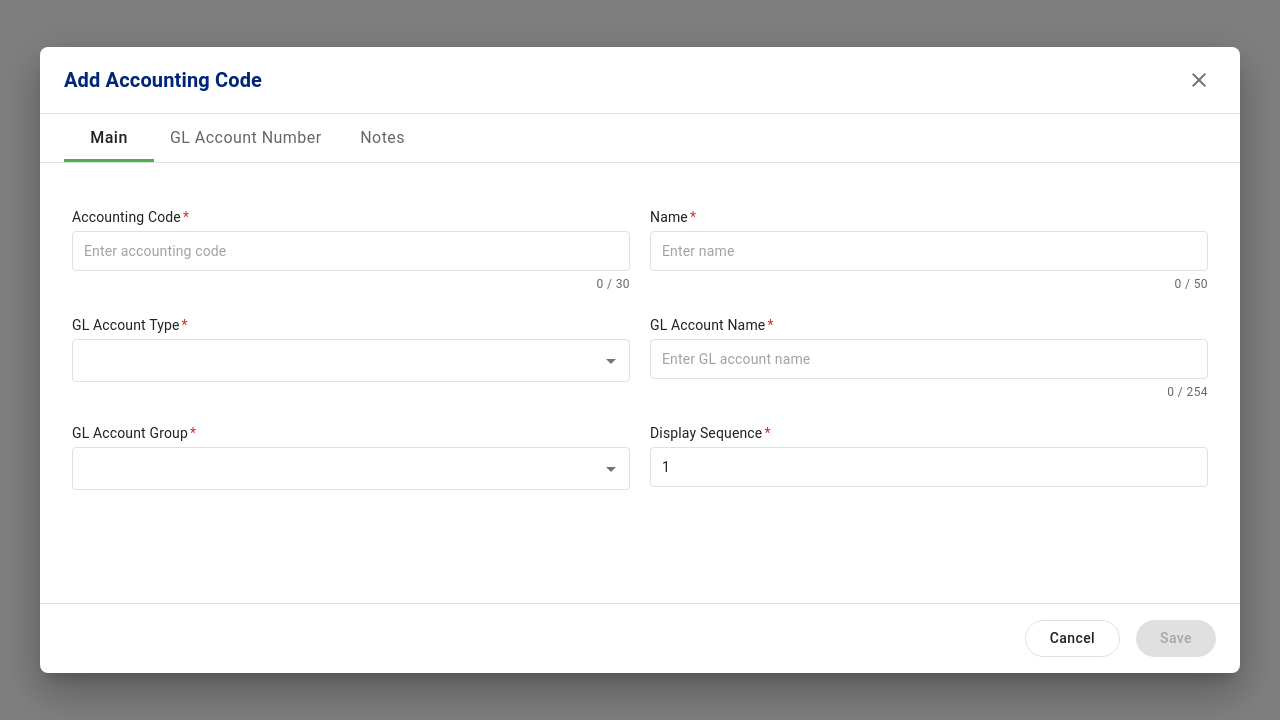
Test: AddAccountingCodeDialog › updates character count as user types in Notes tab
# Switch to Notes tab
Click the tab "Notes" at (383, 138), box x1=338 y1=114 x2=428 y2=162
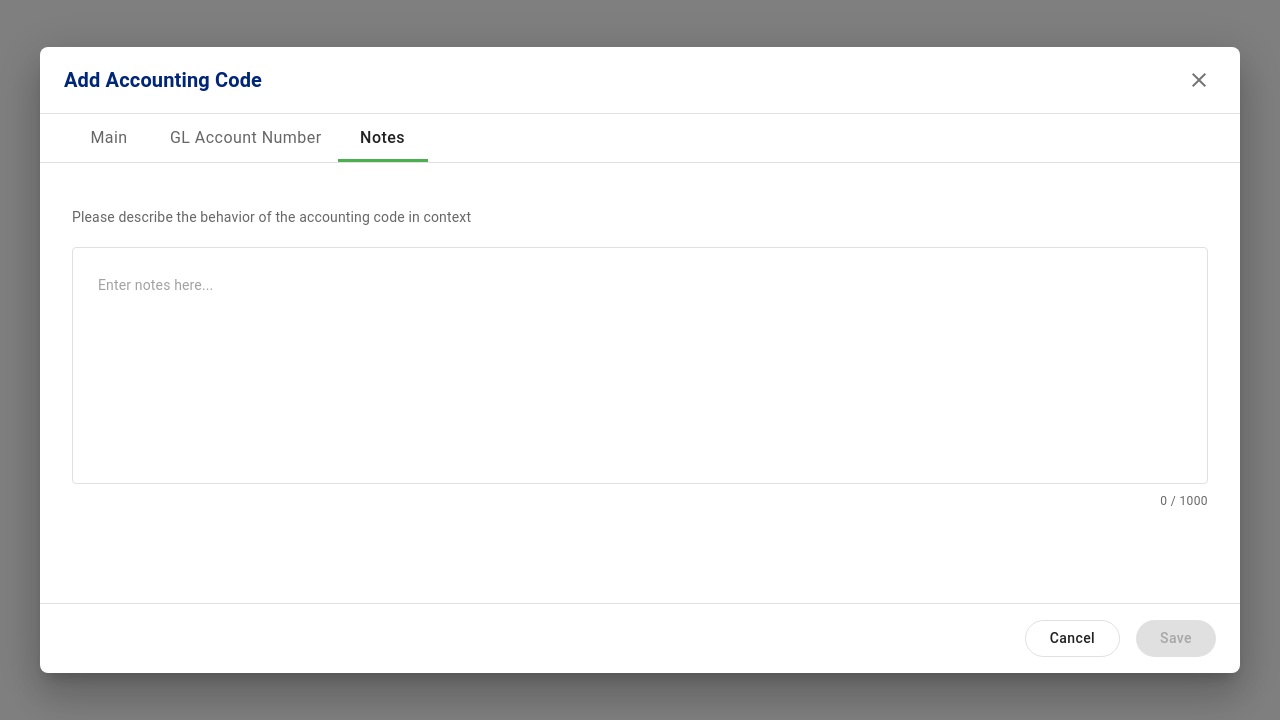
# Type in the notes field
Type "Test note" into the text box with placeholder "Enter notes here..." at (640, 366), box x1=86 y1=264 x2=1194 y2=468
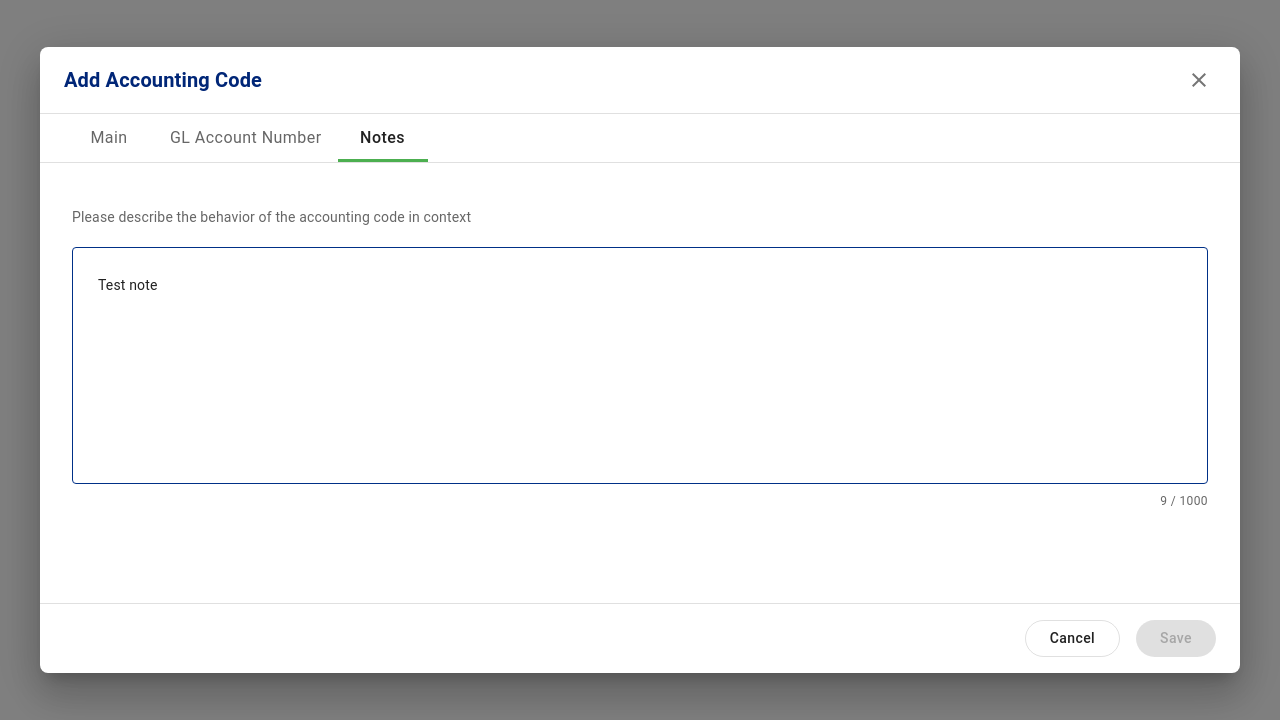
Expected: the text "9 / 1000" is shown, x1=1160 y1=494 x2=1208 y2=508
